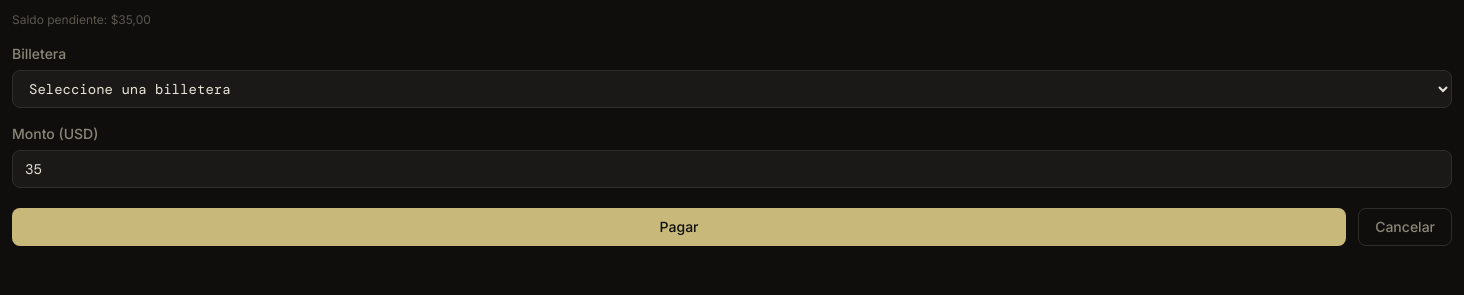
Test: PayCreditCardForm › shows an autofilled rate and preview when the wallet is in a different currency
Select "Efectivo Bs" in the dropdown labelled "Billetera" at (732, 89), box left=12, top=70, right=1452, bottom=108
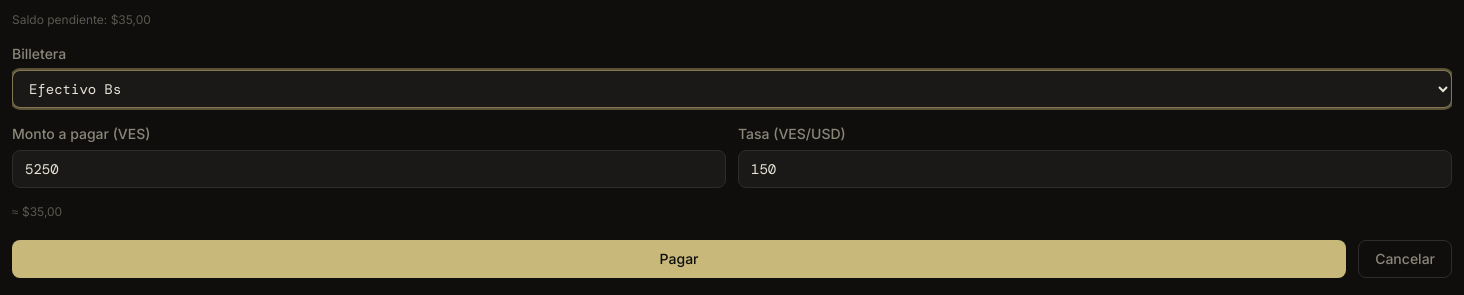
Expected: the number field labelled "Tasa (VES/USD)" holds "150", left=738, top=150, right=1452, bottom=188
Expected: the number field labelled "Monto a pagar (VES)" holds "5250", left=12, top=150, right=726, bottom=188
